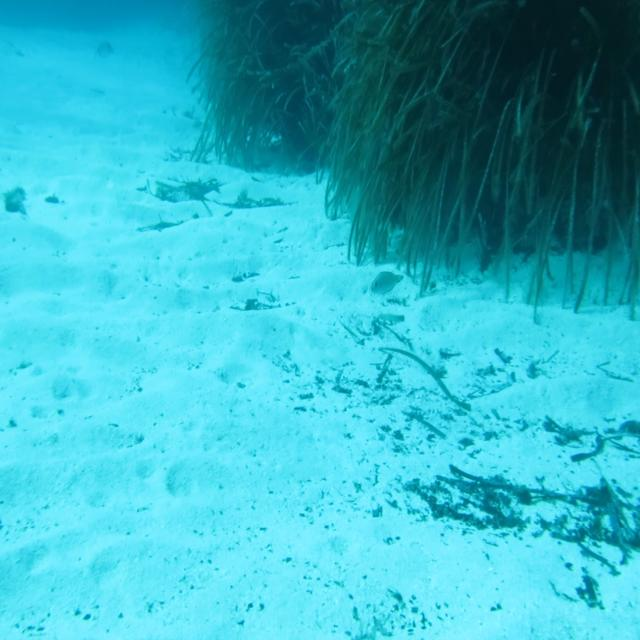AM: (369, 269, 404, 298)
vegetation: (199, 0, 640, 173), (368, 286, 375, 298)
